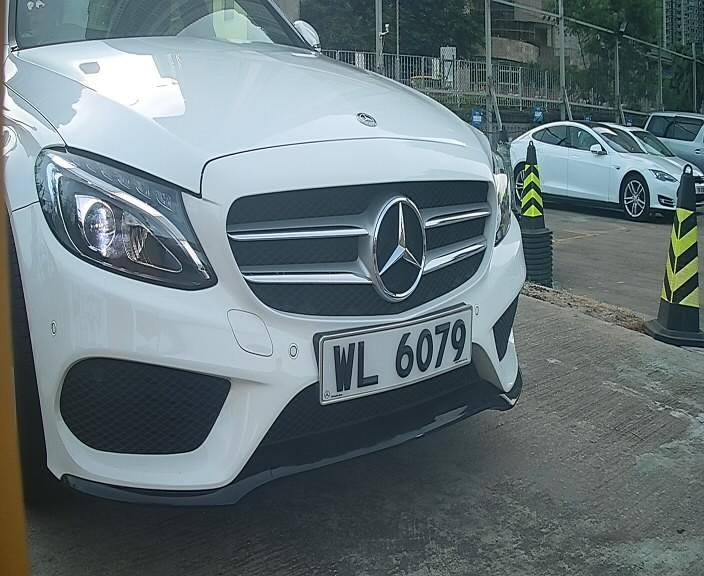privatecar: (7, 11, 551, 533)
